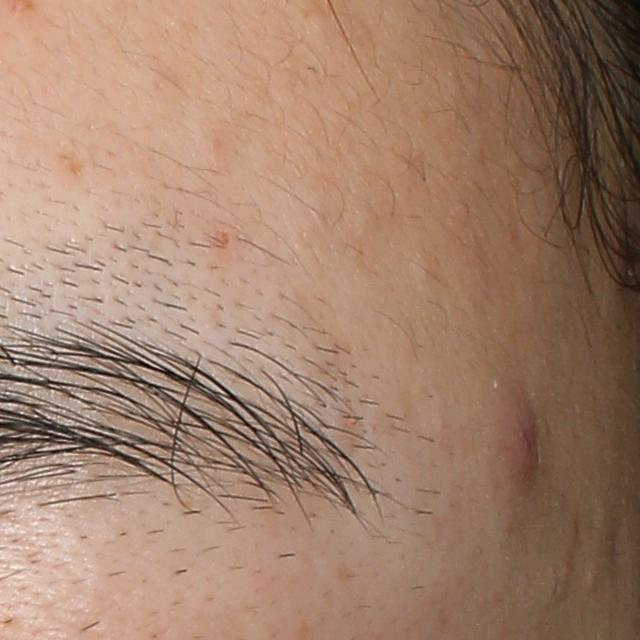papule: (493, 390, 544, 482)
